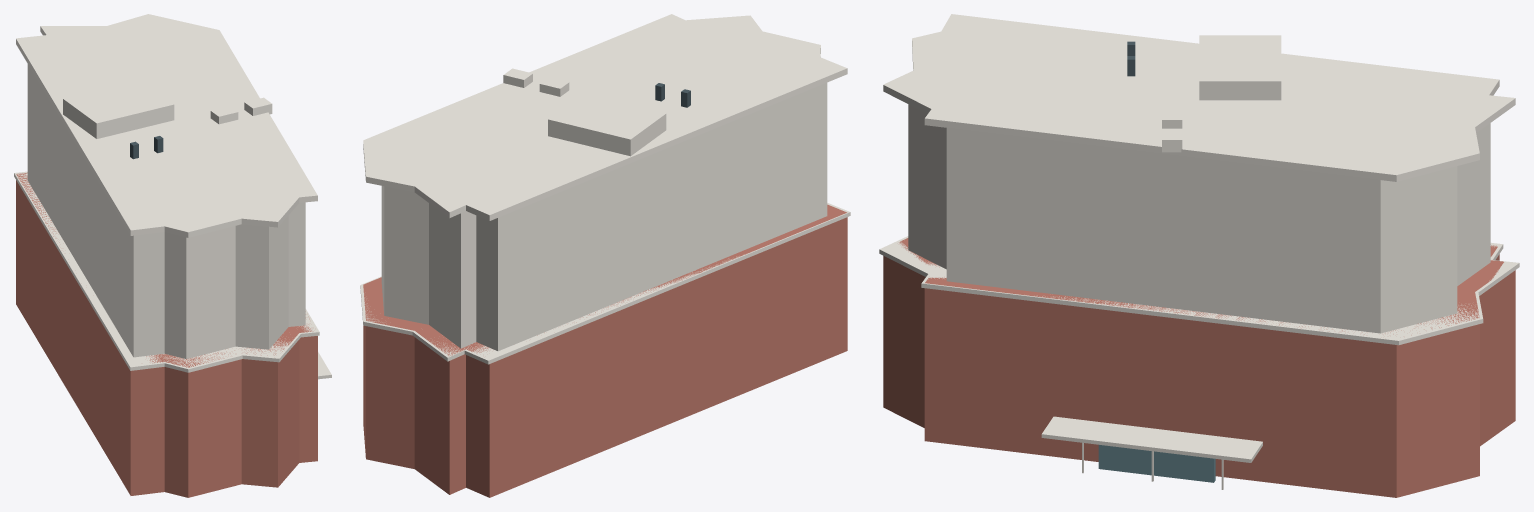
File: gh_block.glb
3 views of the same model, side by side, from view 1: azimuth 30°, elevation 25°; view 2: azimuth 150°, elevation 25°; view 3: azimuth 270°, elevation 25° (orthographic). The views are drawn at different scales.
Parts seen in each view (by area): view 1: GH Block_base, GH Block_parapet, GH Block_upper, GH Block_band, GH Block_roof_plant, GH Block_ac_1, GH Block_ac_0; view 2: GH Block_base, GH Block_upper, GH Block_parapet, GH Block_roof_plant, GH Block_band; view 3: GH Block_base, GH Block_upper, GH Block_parapet, GH Block_band, GH Block_roof_plant, GH Block_canopy, GH Block_door.
Part boxes in pixels (left/top/right/bottom): GH Block_base: left=16, top=172, right=317, bottom=497; GH Block_parapet: left=16, top=14, right=317, bottom=237; GH Block_upper: left=27, top=64, right=305, bottom=358; GH Block_band: left=14, top=171, right=319, bottom=372; GH Block_roof_plant: left=63, top=80, right=174, bottom=138; GH Block_ac_1: left=244, top=97, right=272, bottom=115; GH Block_ac_0: left=210, top=106, right=238, bottom=124; GH Block_base: left=363, top=204, right=847, bottom=497; GH Block_upper: left=381, top=83, right=827, bottom=351; GH Block_parapet: left=363, top=14, right=847, bottom=220; GH Block_roof_plant: left=548, top=93, right=666, bottom=156; GH Block_band: left=360, top=203, right=850, bottom=364; GH Block_base: left=883, top=238, right=1515, bottom=497; GH Block_upper: left=908, top=104, right=1490, bottom=333; GH Block_parapet: left=883, top=14, right=1515, bottom=181; GH Block_band: left=879, top=236, right=1519, bottom=345; GH Block_roof_plant: left=1199, top=35, right=1281, bottom=100; GH Block_canopy: left=1041, top=416, right=1262, bottom=462; GH Block_door: left=1098, top=445, right=1215, bottom=482.
Size of the model in its own units: 29.09 by 27.7 by 47.01.
